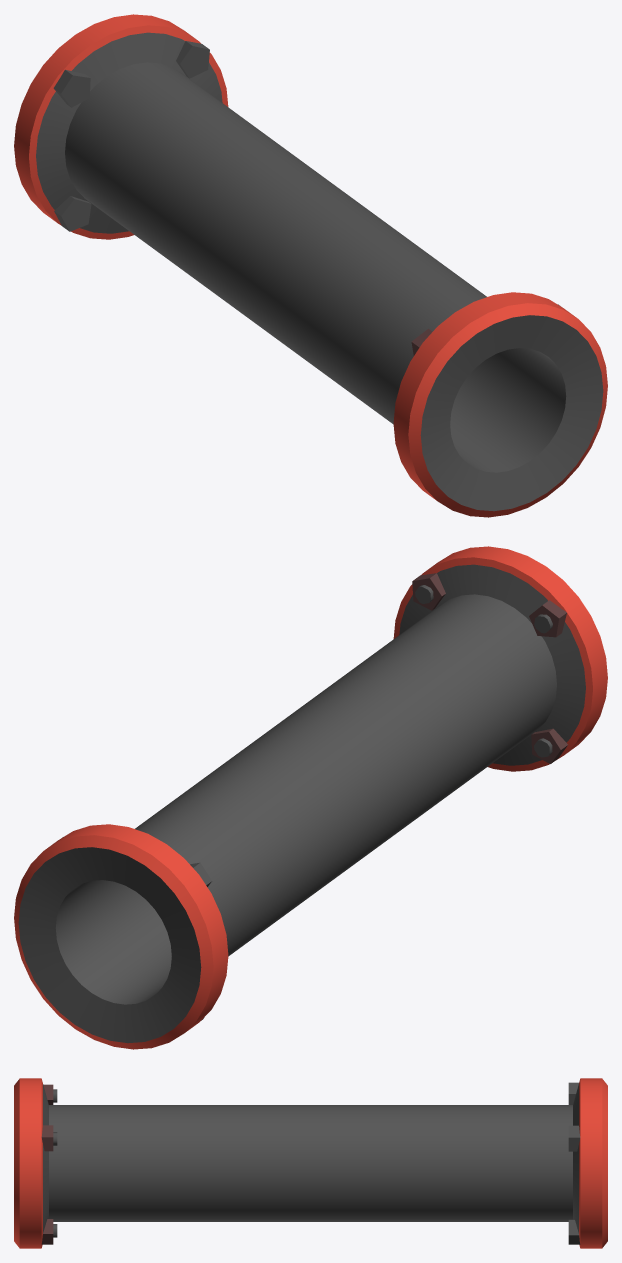
Rendered from Pipe.fbx.
The picture shows the model from 3 angles, top to bottom: view 1: azimuth 30°, elevation 25°; view 2: azimuth 150°, elevation 25°; view 3: azimuth 270°, elevation 25°; orthographic projection. The views are drawn at different scales.
Visible parts, largest first — view 1: Cylinder, Cylinder.004; view 2: Cylinder, Cylinder.004; view 3: Cylinder, Cylinder.004.
Boxes of the visible parts, x1,y1,x2,y2 form: Cylinder: (14,14,607,517); Cylinder.004: (53,41,559,355); Cylinder: (14,546,607,1049); Cylinder.004: (62,573,567,1020); Cylinder: (14,1078,607,1248); Cylinder.004: (41,1082,580,1244).
Bounding box in the file's own units: 58.46 × 58.46 × 204.
